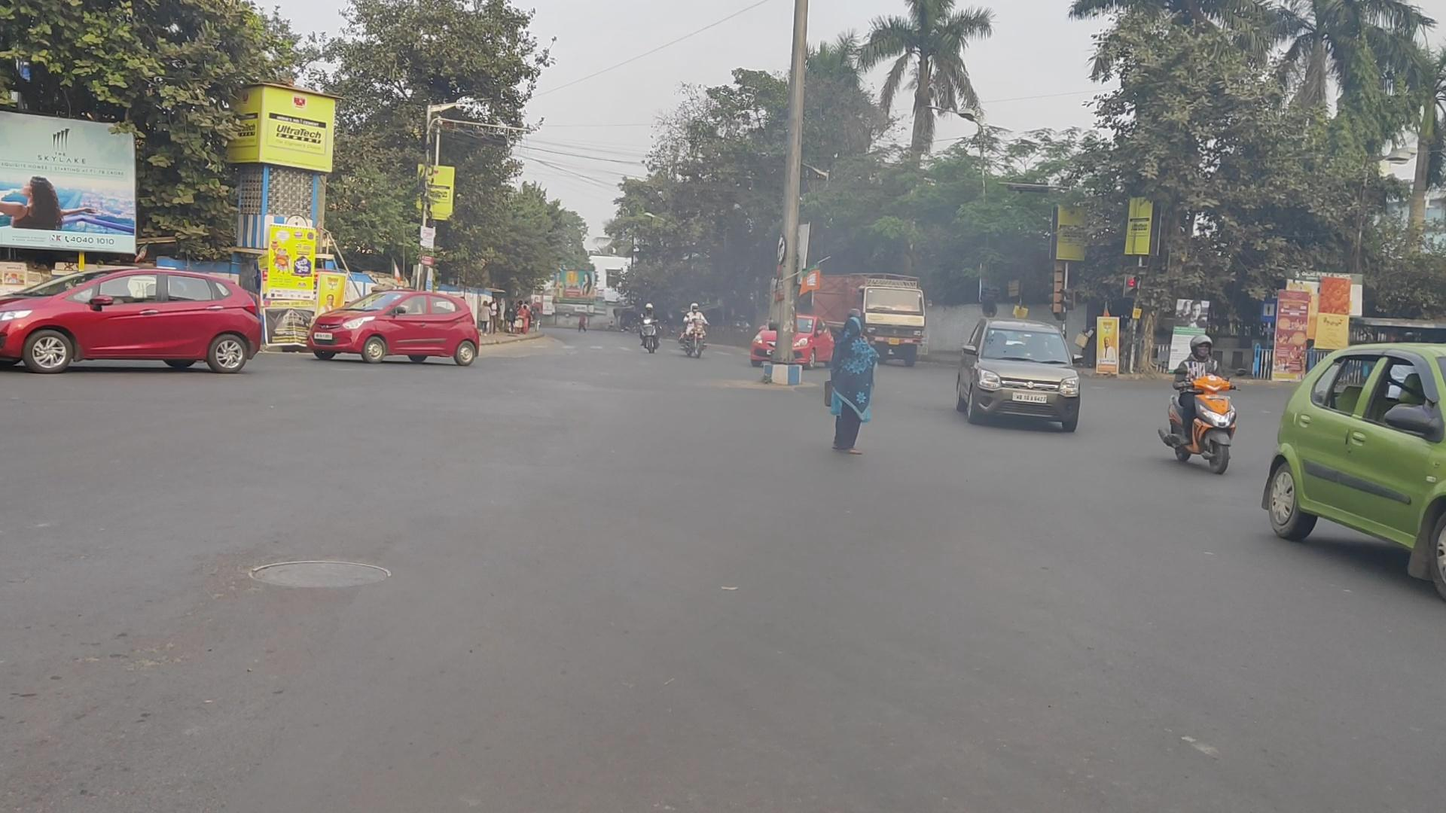bike: (1158, 333, 1246, 474), (679, 303, 709, 359), (638, 303, 661, 354)
car: (1260, 341, 1446, 604), (1, 266, 262, 375), (954, 318, 1081, 434), (307, 288, 480, 366), (749, 313, 836, 370)
truck: (808, 274, 927, 367)
